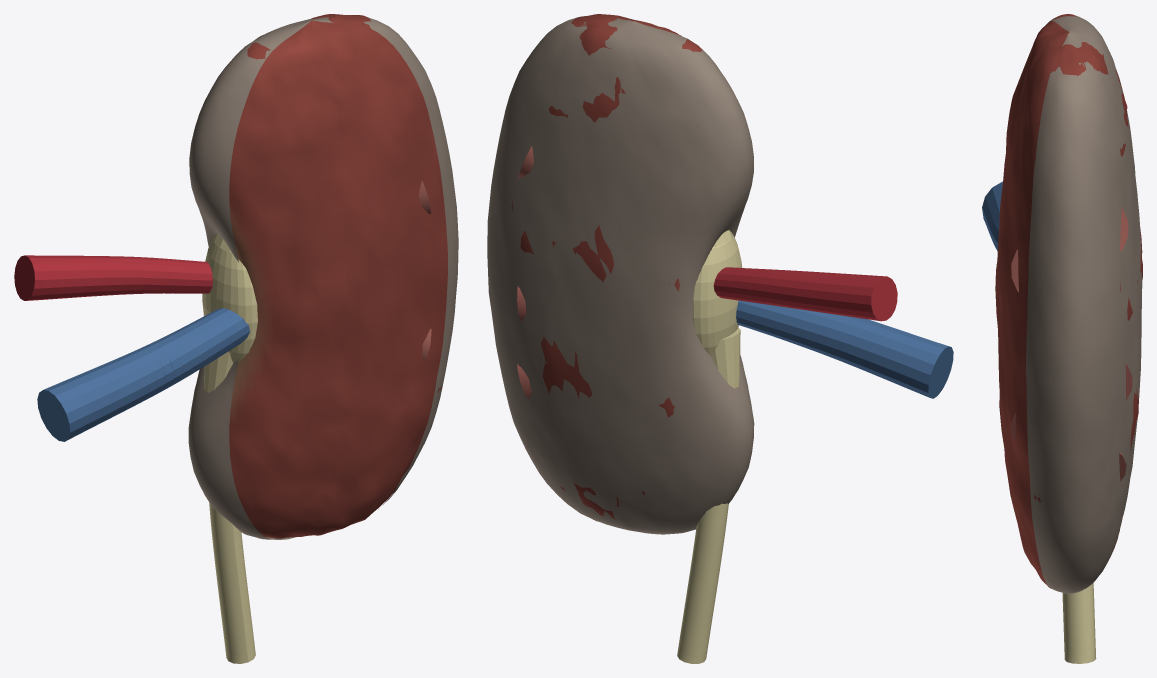
Rendered from kidney.glb.
3 renders of one model, left to right at view 1: azimuth 30°, elevation 25°; view 2: azimuth 150°, elevation 25°; view 3: azimuth 270°, elevation 25°, orthographic. The views are drawn at different scales.
Visible parts, largest first — view 1: renal_cortex, renal_capsule, renal_vein, renal_artery, ureter, renal_pelvis; view 2: renal_capsule, renal_vein, renal_artery, renal_cortex, ureter, renal_pelvis, renal_medulla; view 3: renal_capsule, renal_cortex, ureter, renal_medulla, renal_vein.
Part boxes in pixels (x1,y1,x2,y2): renal_cortex: [229, 14, 447, 538]; renal_capsule: [188, 17, 458, 539]; renal_vein: [37, 308, 250, 441]; renal_artery: [14, 255, 212, 300]; ureter: [209, 502, 255, 663]; renal_pelvis: [202, 237, 257, 392]; renal_capsule: [487, 16, 754, 534]; renal_vein: [736, 300, 953, 398]; renal_artery: [713, 267, 897, 321]; renal_cortex: [511, 14, 701, 521]; ureter: [677, 503, 728, 663]; renal_pelvis: [692, 234, 742, 388]; renal_medulla: [517, 146, 533, 399]; renal_capsule: [1026, 15, 1142, 593]; renal_cortex: [995, 14, 1142, 588]; ureter: [1062, 583, 1096, 663]; renal_medulla: [1010, 207, 1132, 481]; renal_vein: [982, 181, 1002, 250].
Bounding box in the file's own units: 1.85 × 2.56 × 0.5632.
